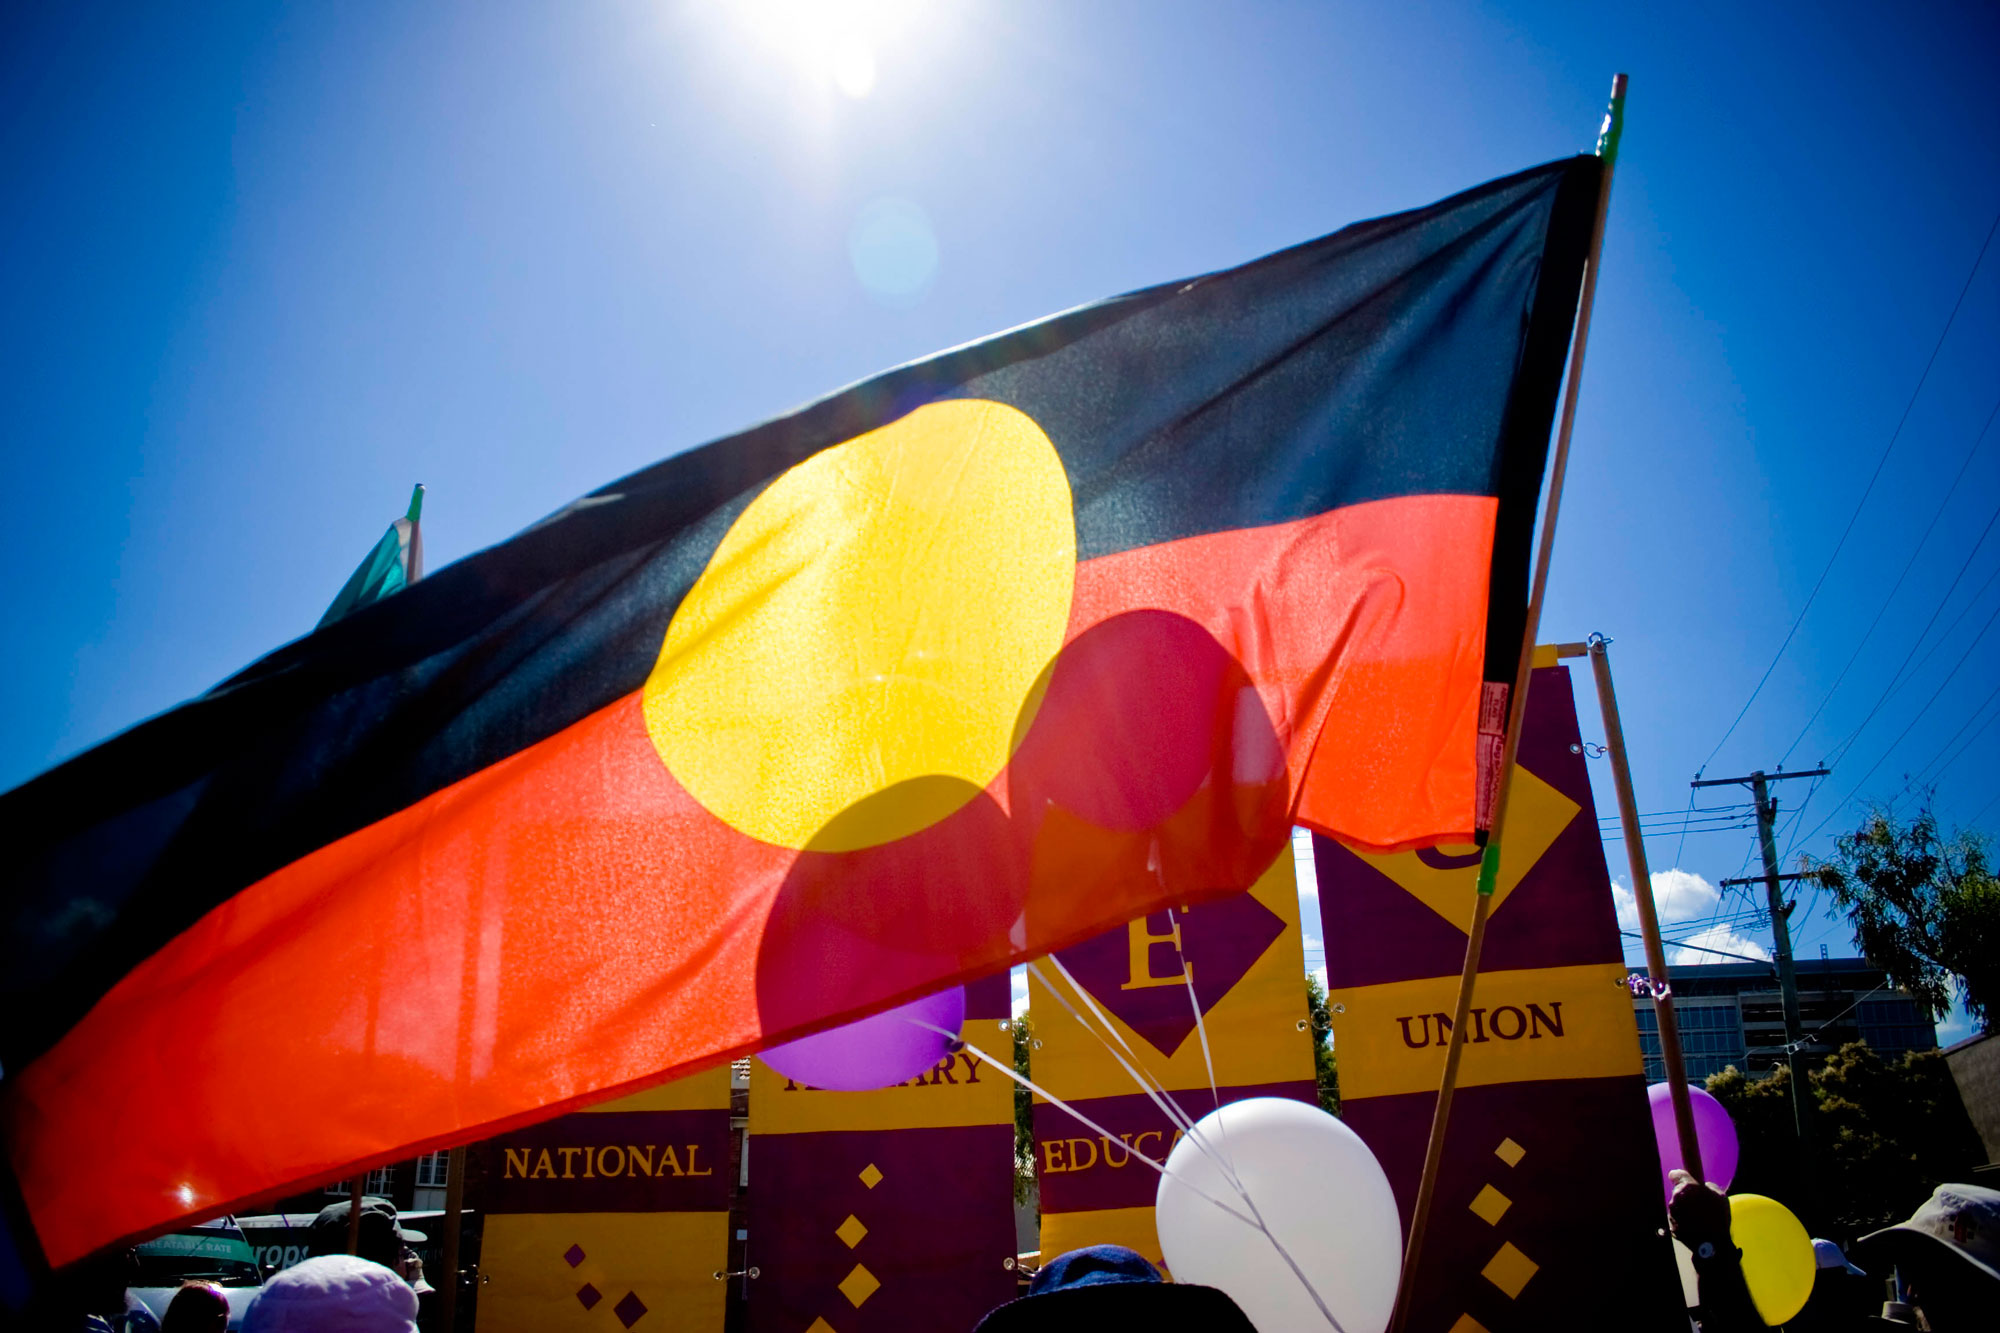aboriginal_flag: (1, 115, 1657, 1279)
